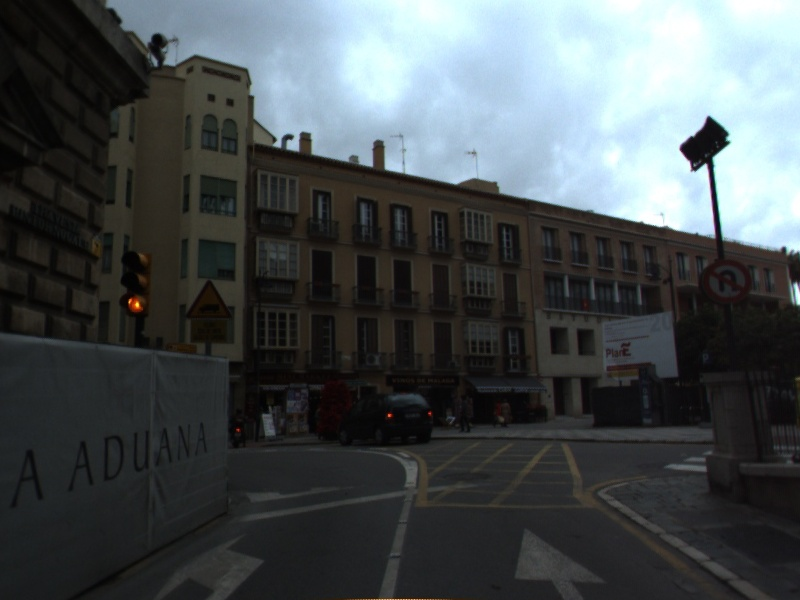LEFT: (151, 528, 271, 600)
STRAIGHT: (511, 523, 612, 600)
